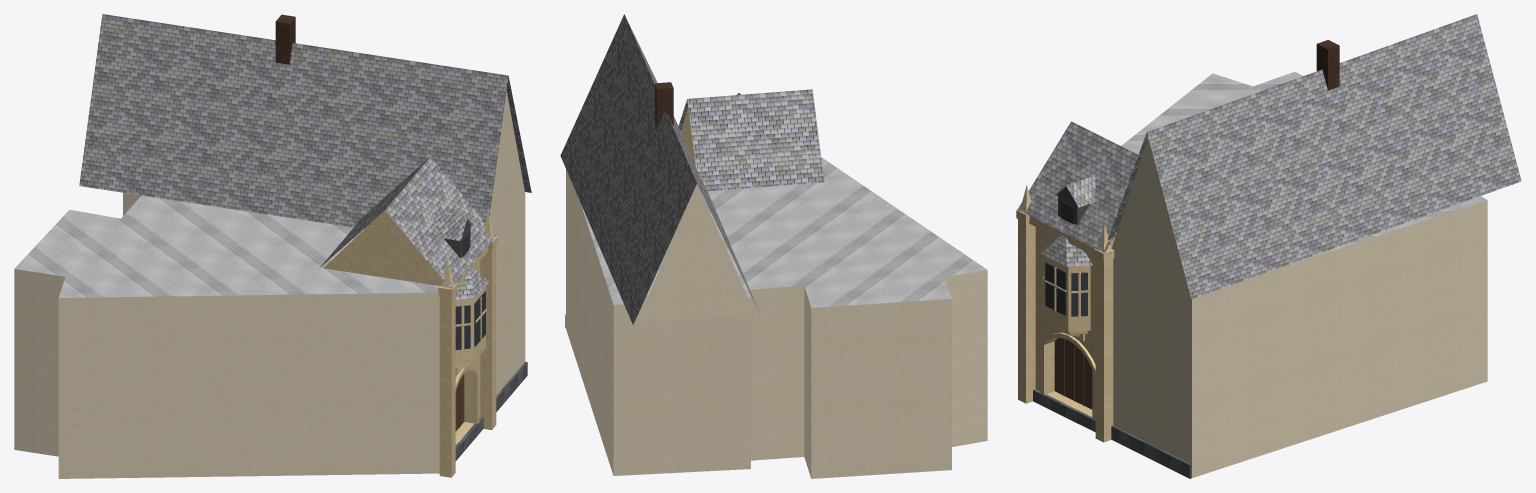
3 views of the same model, side by side, from view 1: azimuth 30°, elevation 25°; view 2: azimuth 150°, elevation 25°; view 3: azimuth 270°, elevation 25° (orthographic). The views are drawn at different scales.
Parts seen in each view (by area): view 1: bldg_503176291_landmark; view 2: bldg_503176291_landmark; view 3: bldg_503176291_landmark.
Part boxes in pixels (<box>): bldg_503176291_landmark: <box>14,14,531,478</box>; bldg_503176291_landmark: <box>560,14,987,478</box>; bldg_503176291_landmark: <box>1016,14,1521,478</box>.
Size of the model in its own units: 21.55 by 15.4 by 20.18.
Materials: 10 (6 with a texture image).
